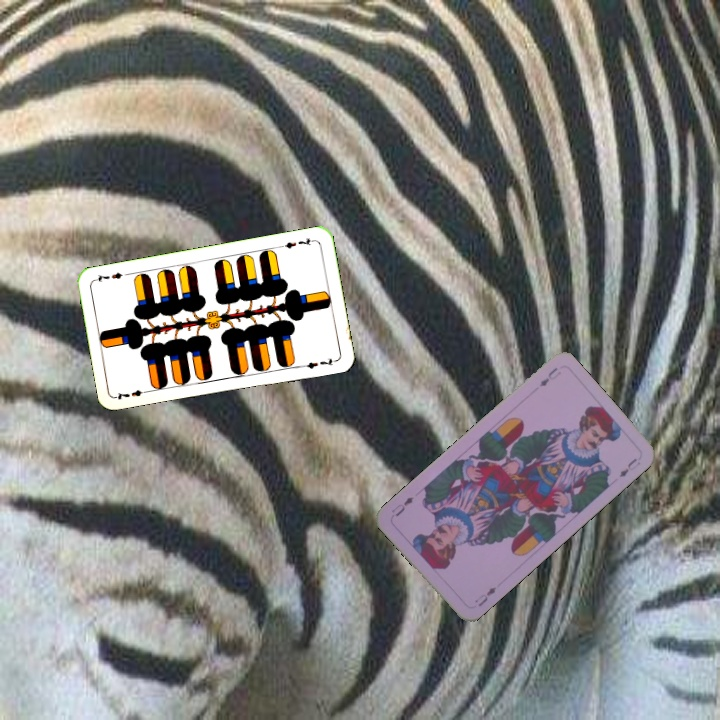E7: (277, 234, 317, 251), (113, 386, 153, 402)
EU: (535, 363, 563, 390), (471, 583, 499, 609)
